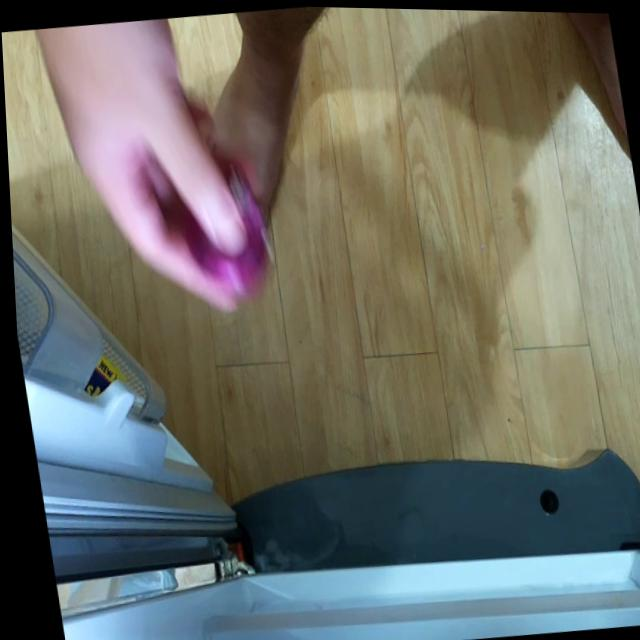onion: (168, 151, 273, 315)
